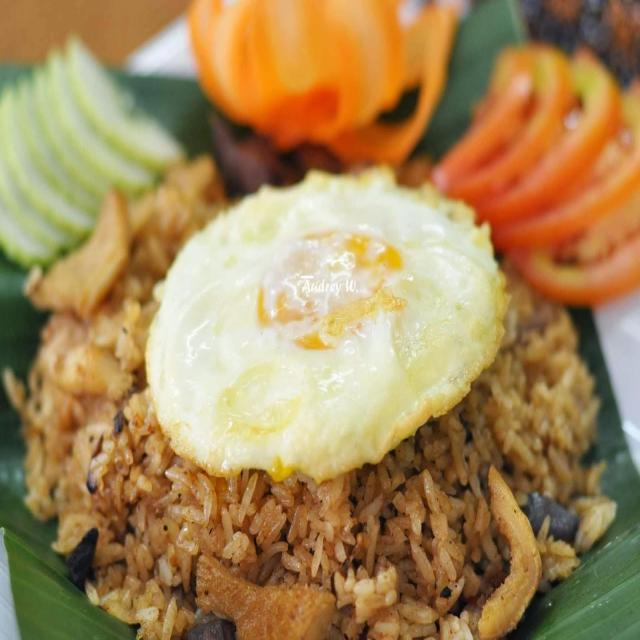Nasi Goreng: (38, 214, 597, 620)
